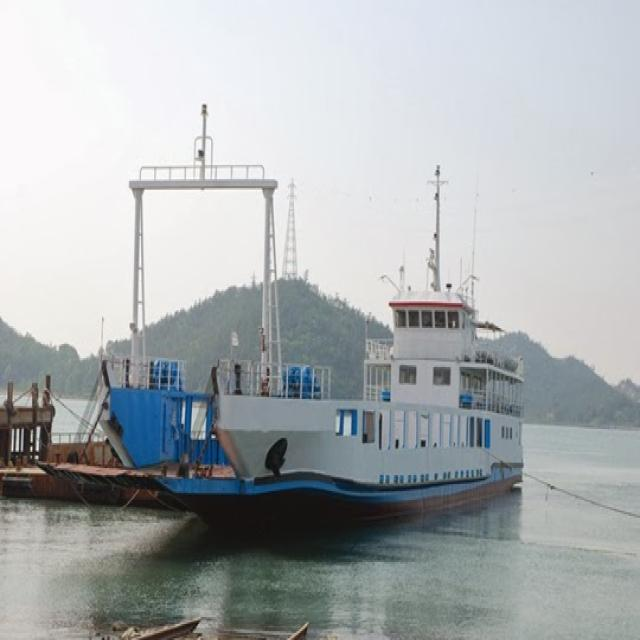passenger ship: (182, 235, 566, 507)
